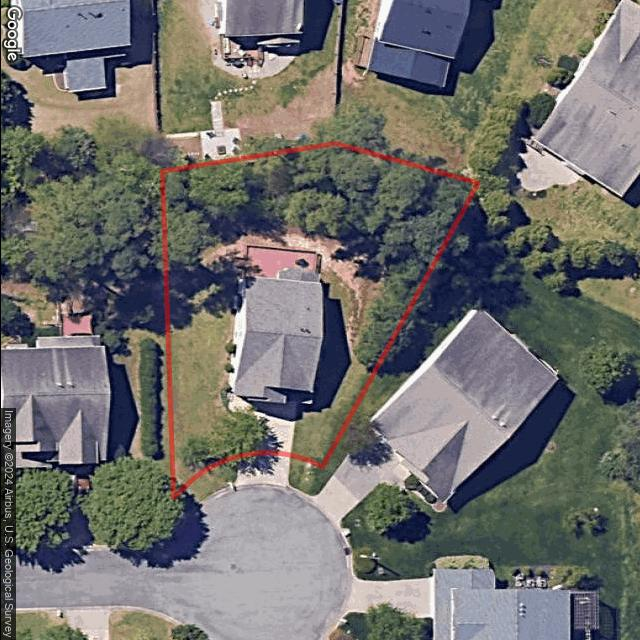Driveway: (237, 396, 299, 460)
Extra-Driveway: (227, 452, 290, 487)
Extra-Lawn: (175, 455, 237, 513), (288, 455, 322, 493)
House: (226, 267, 324, 404)
Lawn: (162, 143, 477, 497)
Other: (161, 144, 476, 370), (242, 247, 317, 280)
Sidewalk: (228, 396, 246, 414)
